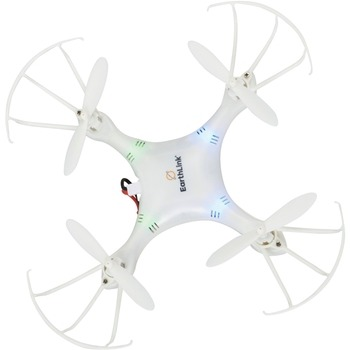drone: (63, 38, 318, 311)
